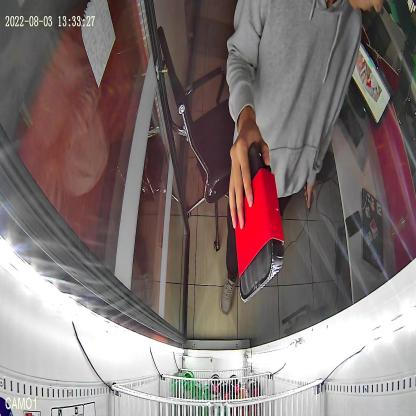red: (233, 140, 285, 304)
